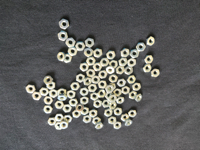nut: (59, 19, 70, 30), (58, 31, 69, 41), (43, 96, 54, 106), (66, 37, 76, 48), (79, 62, 89, 73), (143, 54, 154, 64), (105, 50, 116, 60), (130, 47, 139, 59), (43, 75, 53, 85), (75, 42, 85, 52), (83, 47, 93, 57), (136, 42, 146, 52), (76, 73, 86, 83), (86, 38, 95, 49), (31, 92, 42, 101), (127, 74, 136, 85), (38, 88, 50, 96), (43, 106, 53, 115), (114, 107, 123, 117), (70, 82, 80, 91), (133, 82, 142, 92), (121, 48, 130, 58), (94, 48, 103, 58), (100, 57, 109, 67), (68, 98, 78, 107), (54, 101, 64, 110), (74, 104, 84, 113), (99, 70, 108, 80), (124, 66, 134, 75), (128, 58, 137, 68), (117, 79, 127, 88), (147, 36, 155, 47), (86, 57, 97, 65), (141, 65, 152, 73), (152, 69, 161, 78), (26, 85, 35, 94), (68, 47, 77, 56), (67, 90, 76, 99), (88, 84, 97, 93), (80, 88, 89, 97), (89, 109, 98, 118), (110, 60, 119, 69), (128, 109, 137, 118), (93, 100, 102, 109), (122, 86, 131, 95), (108, 83, 117, 92), (58, 52, 66, 62), (86, 70, 96, 78), (93, 63, 103, 71), (54, 114, 64, 122), (119, 58, 129, 66), (109, 75, 119, 83), (104, 92, 114, 100), (50, 89, 58, 99), (48, 118, 57, 126), (60, 122, 69, 130), (63, 105, 72, 113), (65, 54, 73, 63), (47, 81, 55, 90), (83, 78, 92, 86), (83, 115, 92, 123), (73, 110, 81, 119), (95, 123, 104, 131), (93, 117, 101, 126), (116, 66, 125, 74), (98, 81, 107, 89), (102, 100, 110, 109), (114, 107, 122, 116), (104, 109, 112, 118), (98, 90, 106, 99), (109, 94, 117, 103), (114, 88, 122, 97), (105, 86, 115, 93), (114, 122, 122, 130), (81, 97, 89, 105), (92, 76, 100, 84), (82, 107, 90, 115), (107, 67, 115, 75), (109, 118, 117, 126), (117, 97, 125, 105), (129, 92, 137, 100), (58, 89, 67, 96), (54, 123, 63, 130), (91, 93, 98, 102), (64, 116, 72, 123), (121, 114, 128, 122), (58, 95, 67, 101), (125, 120, 132, 127), (110, 103, 117, 110), (137, 94, 142, 102)
